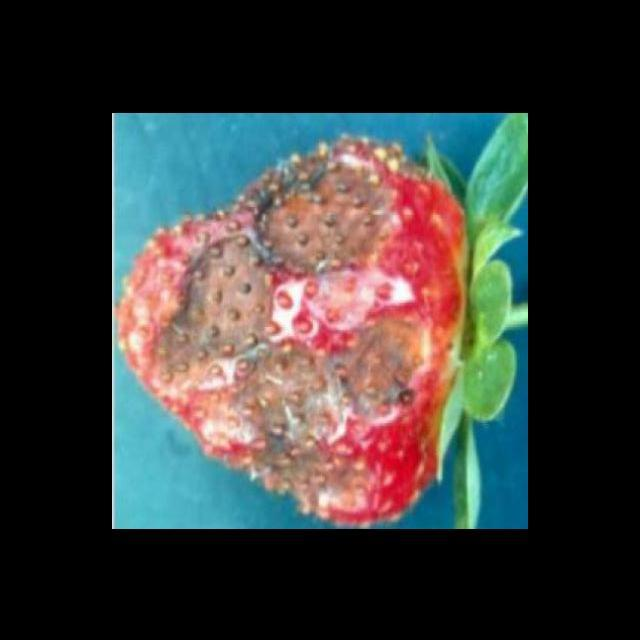Anthracnose Fruit Rot: (144, 138, 436, 526)
